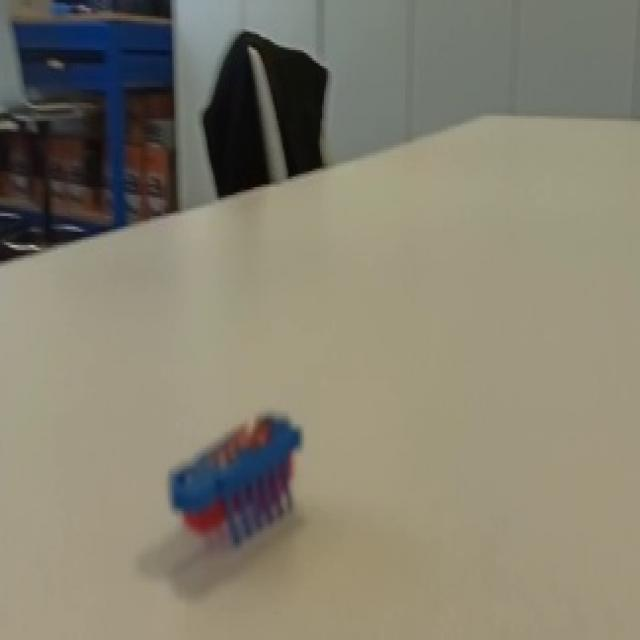1_NanoBug_Azul: (106, 392, 364, 582)
